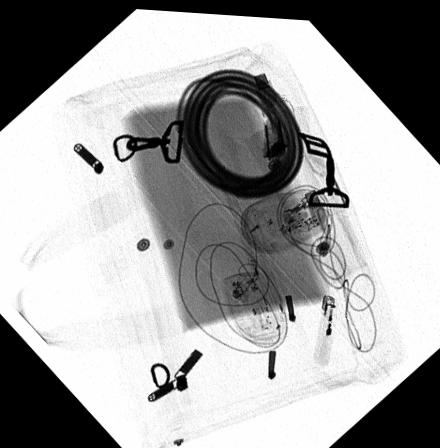Lighter: (311, 289, 337, 364)
